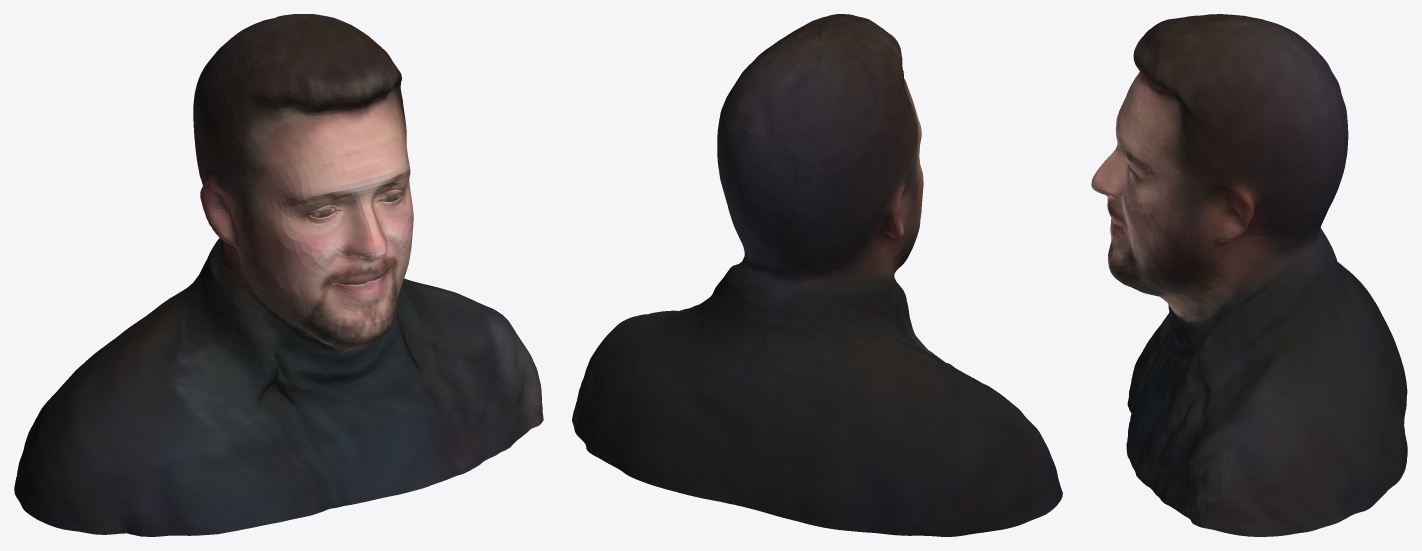
Rendered from head.obj.
The picture shows the model from 3 angles, left to right: view 1: azimuth 30°, elevation 25°; view 2: azimuth 150°, elevation 25°; view 3: azimuth 270°, elevation 25°; orthographic projection. The views are drawn at different scales.
Size of the model in its own units: 0.4727 by 0.3966 by 0.2784.
Materials: 1 (1 with a texture image).
